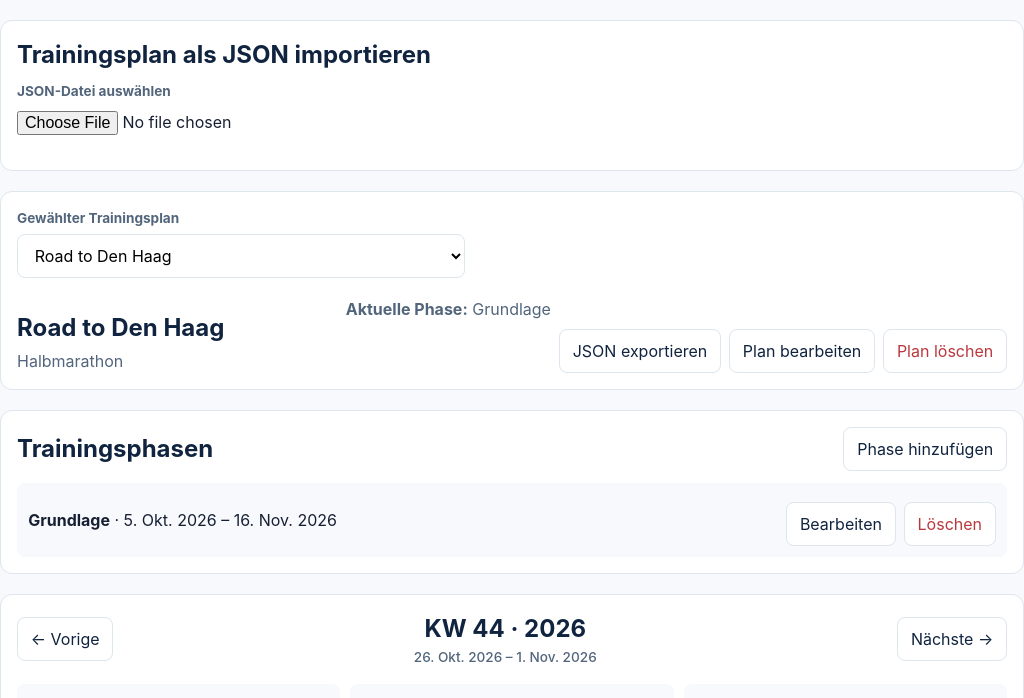
Test: TrainingPlanView weekly overview › navigates to a visible empty week with zero metrics
Click the button with aria-label "Nächste Woche" at (952, 639), box left=897, top=617, right=1007, bottom=661
(page scrolled)
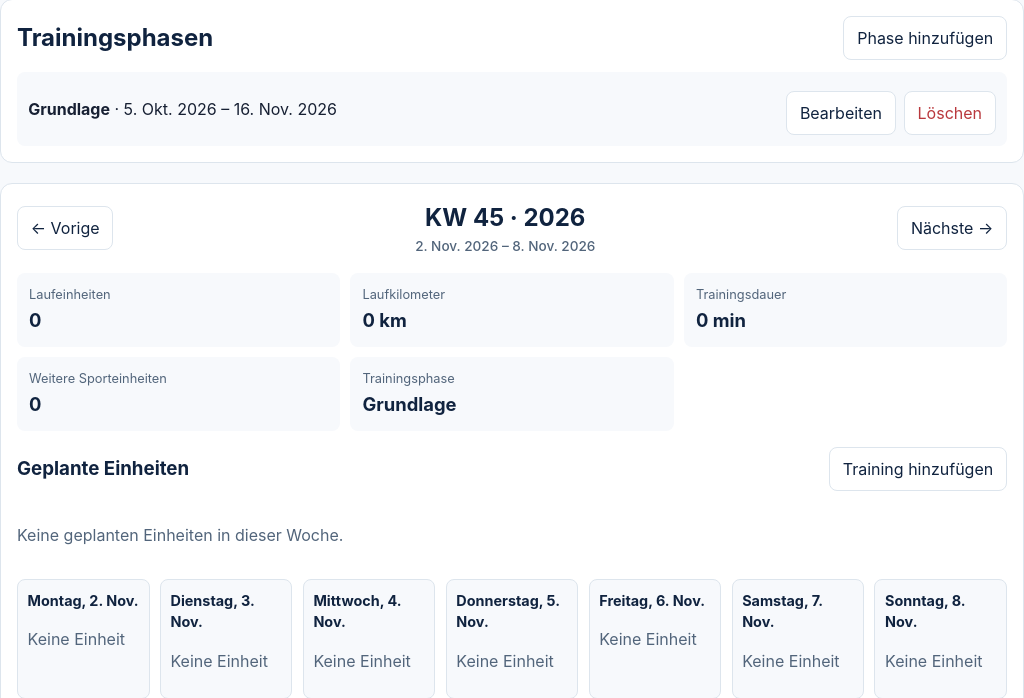
Expected: the text "Keine geplanten Einheiten" is shown, left=17, top=525, right=343, bottom=545
Expected: the text with test id "run-count" reads "0", left=29, top=309, right=41, bottom=331
Expected: the text with test id "run-distance" reads "0 km", left=362, top=309, right=407, bottom=331
